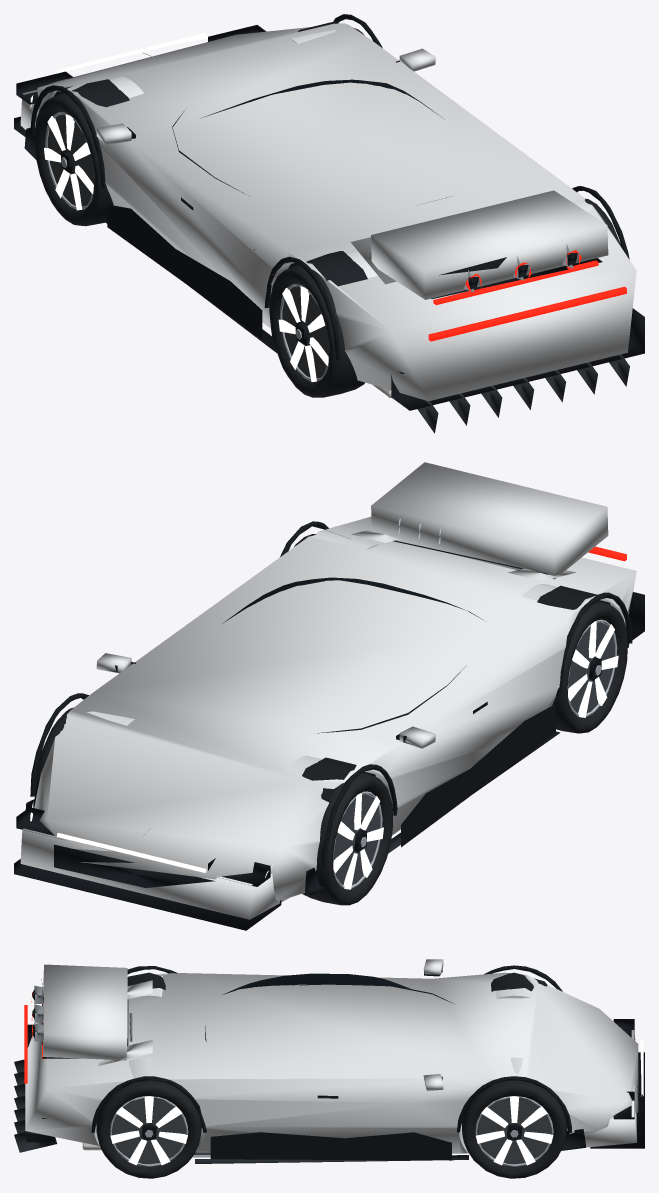
File: roadster-performance.glb
The picture shows the model from 3 angles, top to bottom: view 1: azimuth 30°, elevation 25°; view 2: azimuth 150°, elevation 25°; view 3: azimuth 270°, elevation 25°; orthographic projection. The views are drawn at different scales.
Visible parts, largest first — view 1: body, nacelle, wheel-rl, wheel-fl, fascia-rear, fascia-front, canopy, mirror-l; view 2: body, nacelle, fascia-front, wheel-fl, wheel-rl, canopy, fascia-rear; view 3: body, nacelle, wheel-fr, wheel-rr, fascia-front, fascia-rear, canopy, mirror-l.
Boxes of the visible parts, x1,y1,x2,y2 form: body: [24, 14, 636, 401]; nacelle: [351, 190, 608, 305]; wheel-rl: [269, 265, 364, 397]; wheel-fl: [34, 93, 113, 226]; fascia-rear: [391, 286, 644, 433]; fascia-front: [14, 25, 266, 136]; canopy: [172, 79, 450, 204]; mirror-l: [96, 123, 135, 145]; body: [25, 516, 636, 900]; nacelle: [351, 462, 608, 580]; fascia-front: [14, 802, 289, 930]; wheel-fl: [302, 772, 393, 905]; wheel-rl: [552, 601, 627, 733]; canopy: [222, 577, 482, 733]; fascia-rear: [588, 546, 644, 647]; body: [25, 965, 638, 1163]; nacelle: [31, 964, 152, 1065]; wheel-fr: [462, 1080, 567, 1178]; wheel-rr: [96, 1080, 201, 1178]; fascia-front: [584, 1019, 644, 1148]; fascia-rear: [14, 1005, 57, 1152]; canopy: [205, 973, 453, 1041]; mirror-l: [423, 959, 443, 976].
Bounding box in the file's own units: 2.27 × 1.15 × 4.84.
